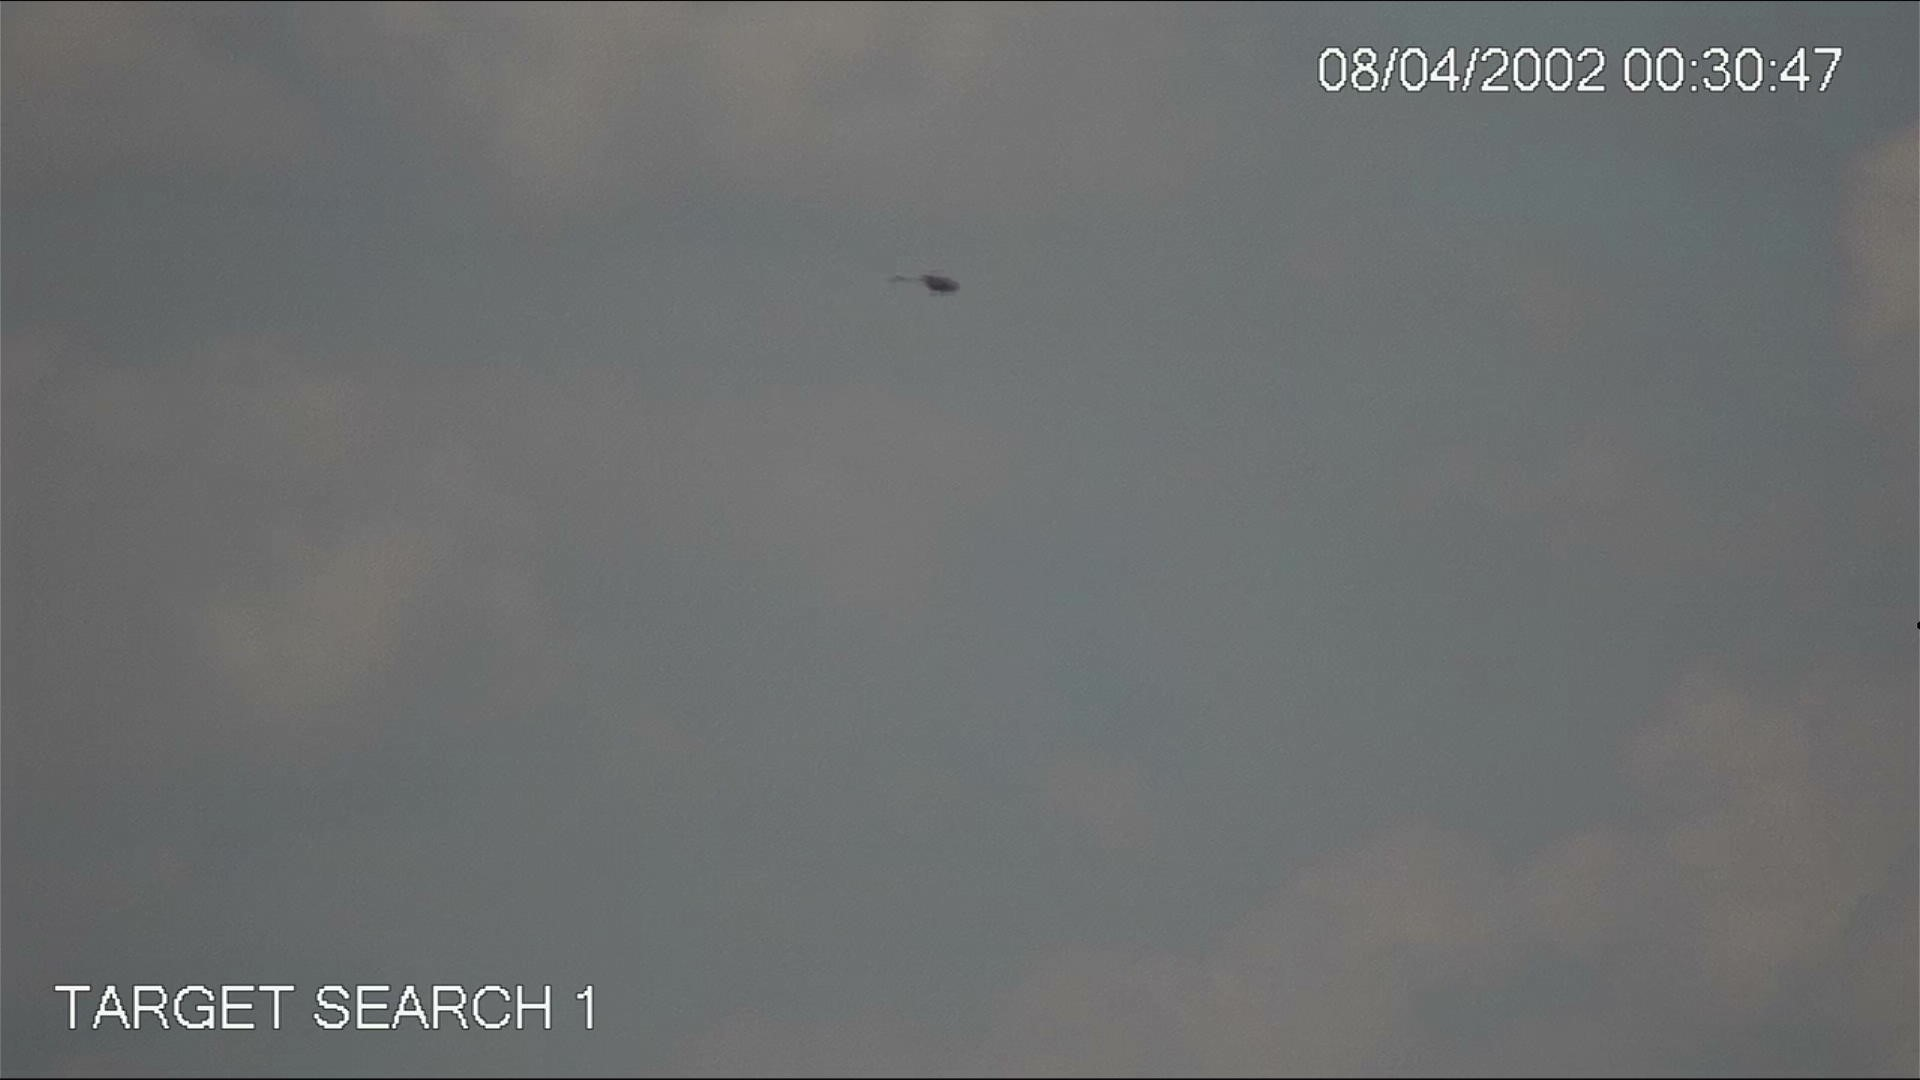SU_30: (880, 266, 964, 299)
